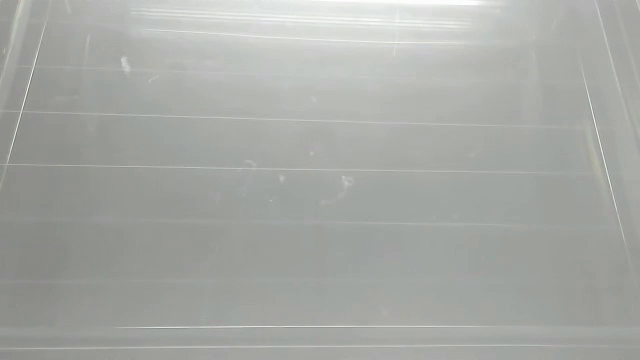alpha: (118, 53, 138, 80)
